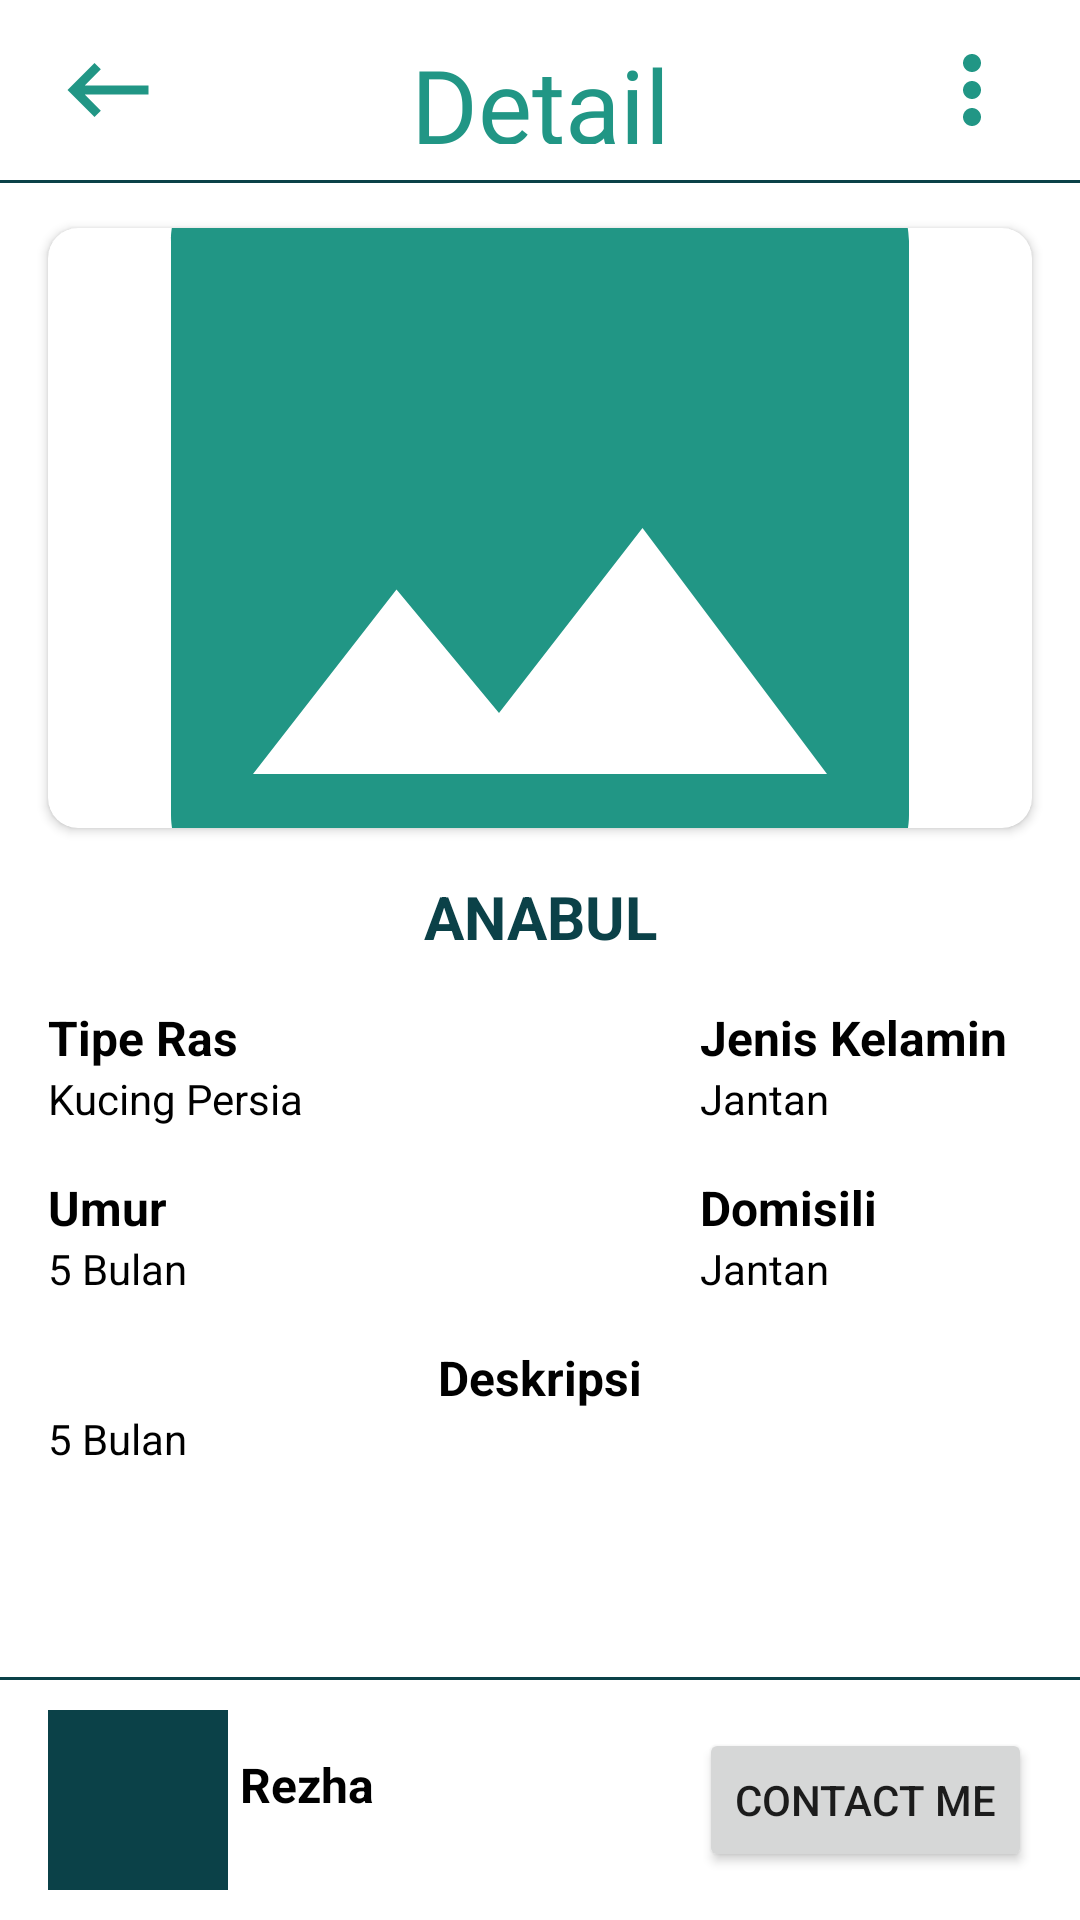

Icons on this 1080*1920 Android screen, each with its box as (x1, y1, x2, y2):
back: (67, 63, 149, 117)
more vert: (963, 54, 981, 126)
